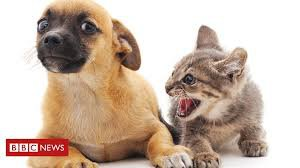cat: (159, 22, 274, 168)
dog: (29, 1, 164, 165)
